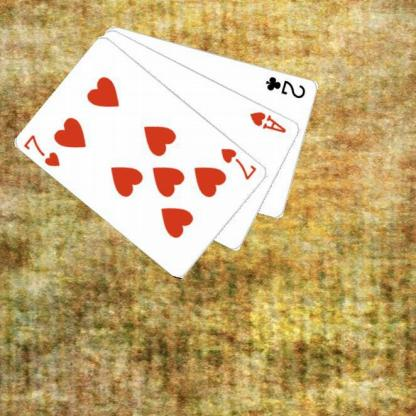2C: (263, 74, 308, 100)
7H: (218, 145, 258, 182), (21, 132, 62, 168)
AH: (247, 108, 288, 135)
